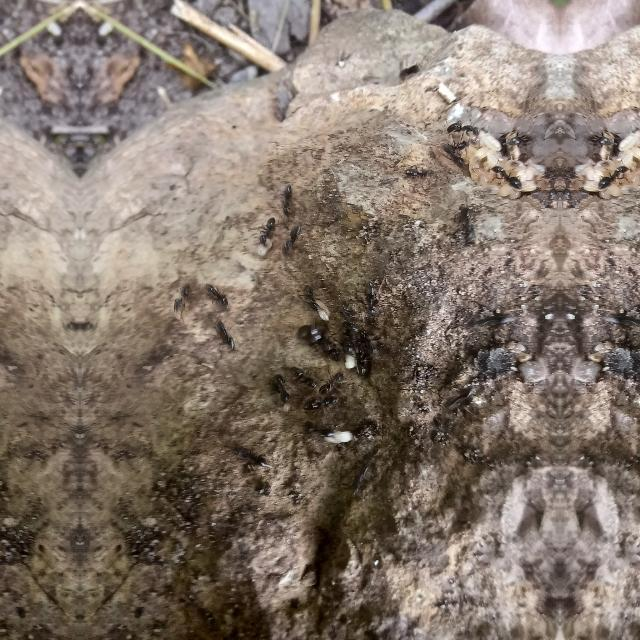Tapinoma: (306, 322, 346, 363), (232, 438, 274, 476), (358, 272, 384, 322), (488, 163, 526, 197), (594, 163, 632, 197), (302, 418, 346, 446), (213, 316, 241, 359), (297, 278, 327, 316), (454, 202, 478, 248), (348, 340, 374, 382), (205, 274, 235, 310), (462, 443, 498, 473), (270, 366, 294, 408), (279, 221, 305, 259), (254, 210, 278, 250), (306, 394, 344, 418), (170, 277, 194, 315), (290, 360, 318, 390), (277, 177, 297, 219), (320, 364, 348, 392), (394, 57, 422, 85), (403, 160, 431, 183), (508, 130, 540, 148), (580, 130, 612, 148), (622, 443, 640, 473)
